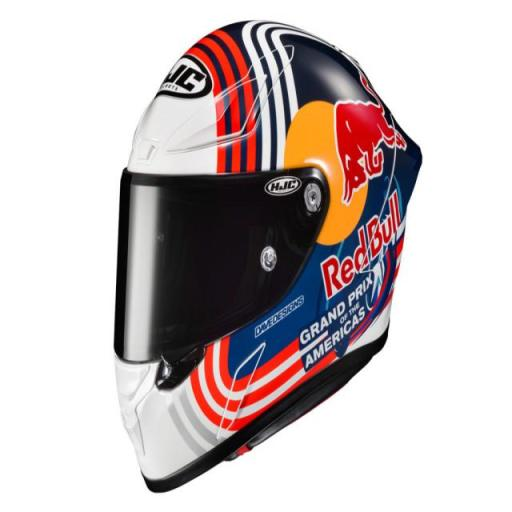Helmet: (90, 10, 430, 486)
